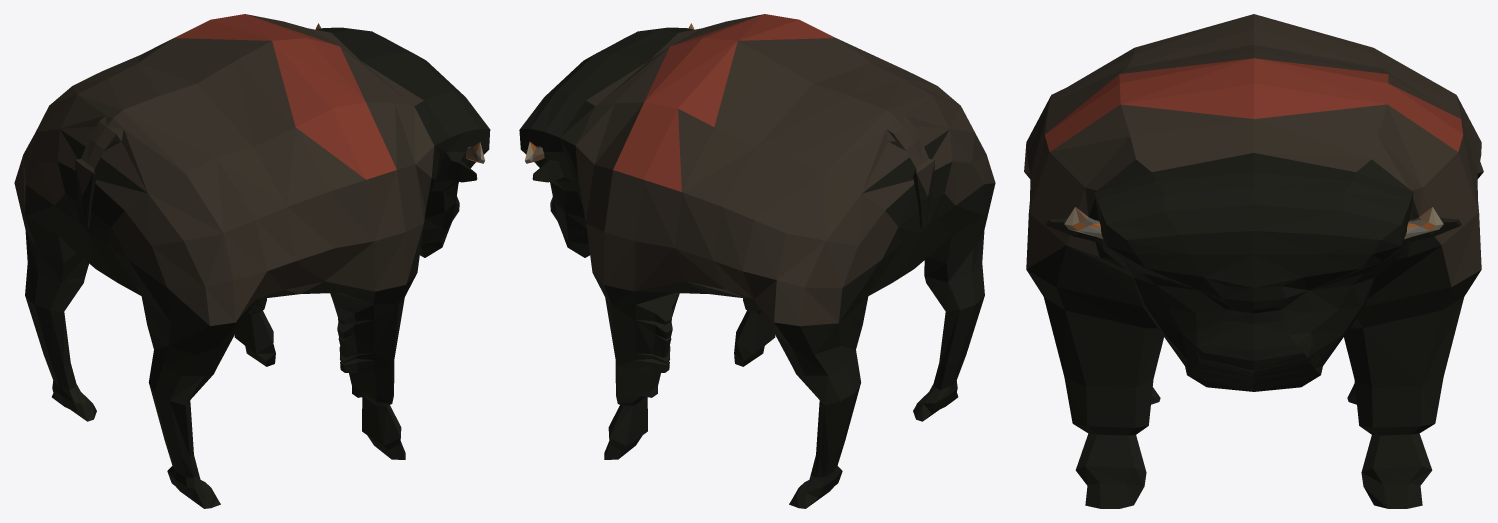
Rendered from bison.glb.
The picture shows the model from 3 angles, left to right: view 1: azimuth 30°, elevation 25°; view 2: azimuth 150°, elevation 25°; view 3: azimuth 270°, elevation 25°; orthographic projection. The views are drawn at different scales.
Size of the model in its own units: 1 by 1 by 1.
